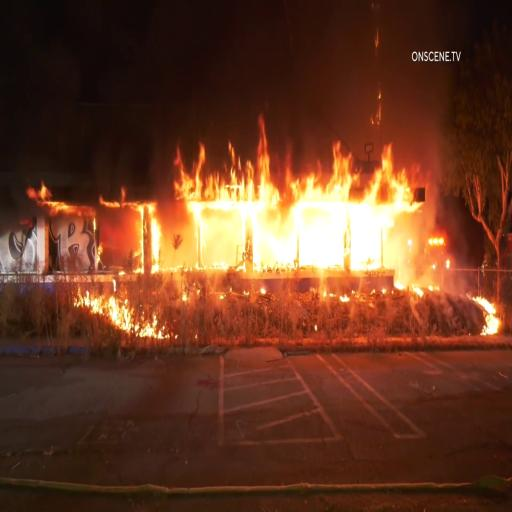fire: (179, 144, 416, 290), (78, 284, 180, 344)
